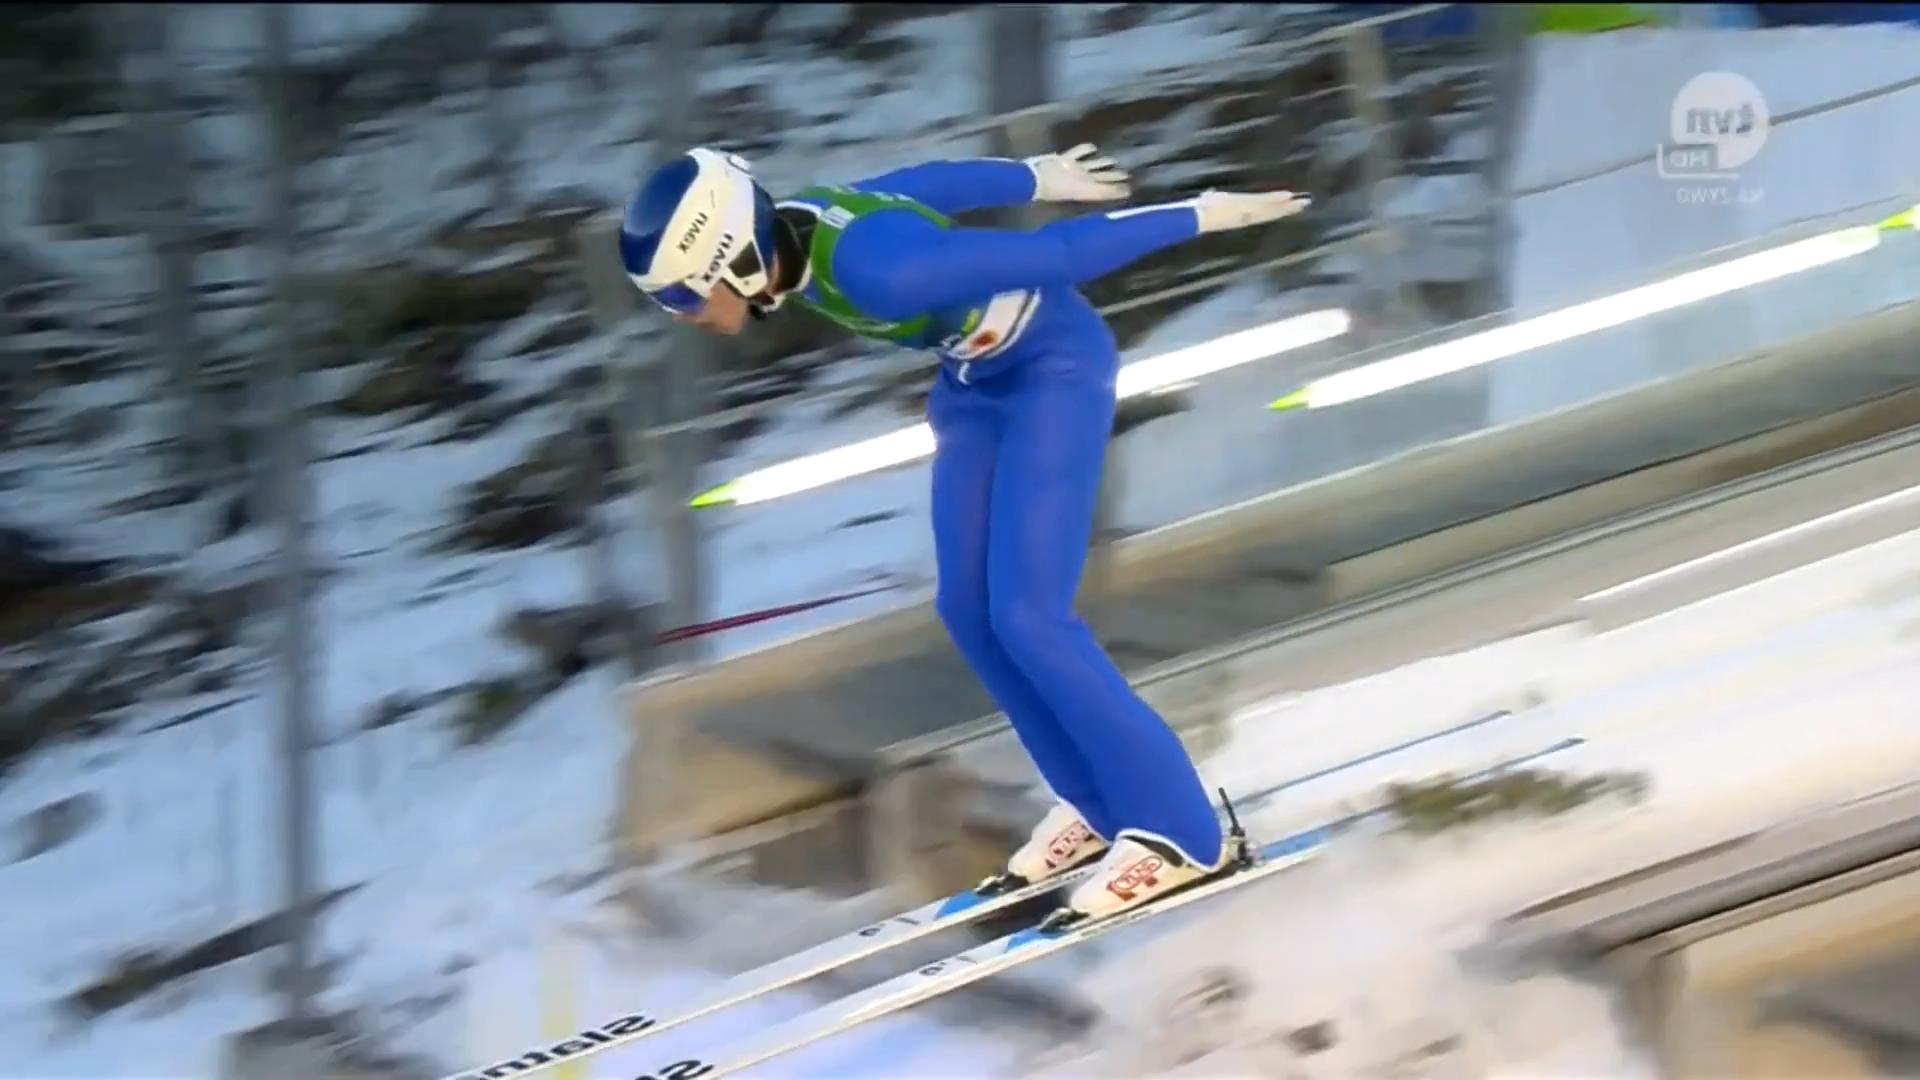prog: (683, 705, 1035, 841)
